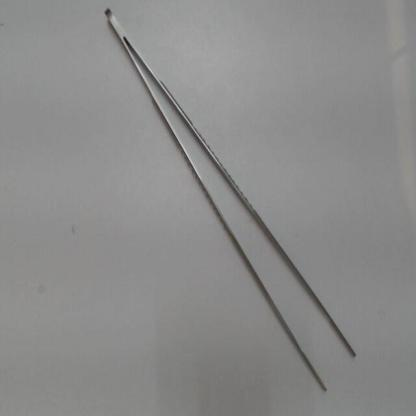DeBakey Dissector: (92, 3, 382, 406)
